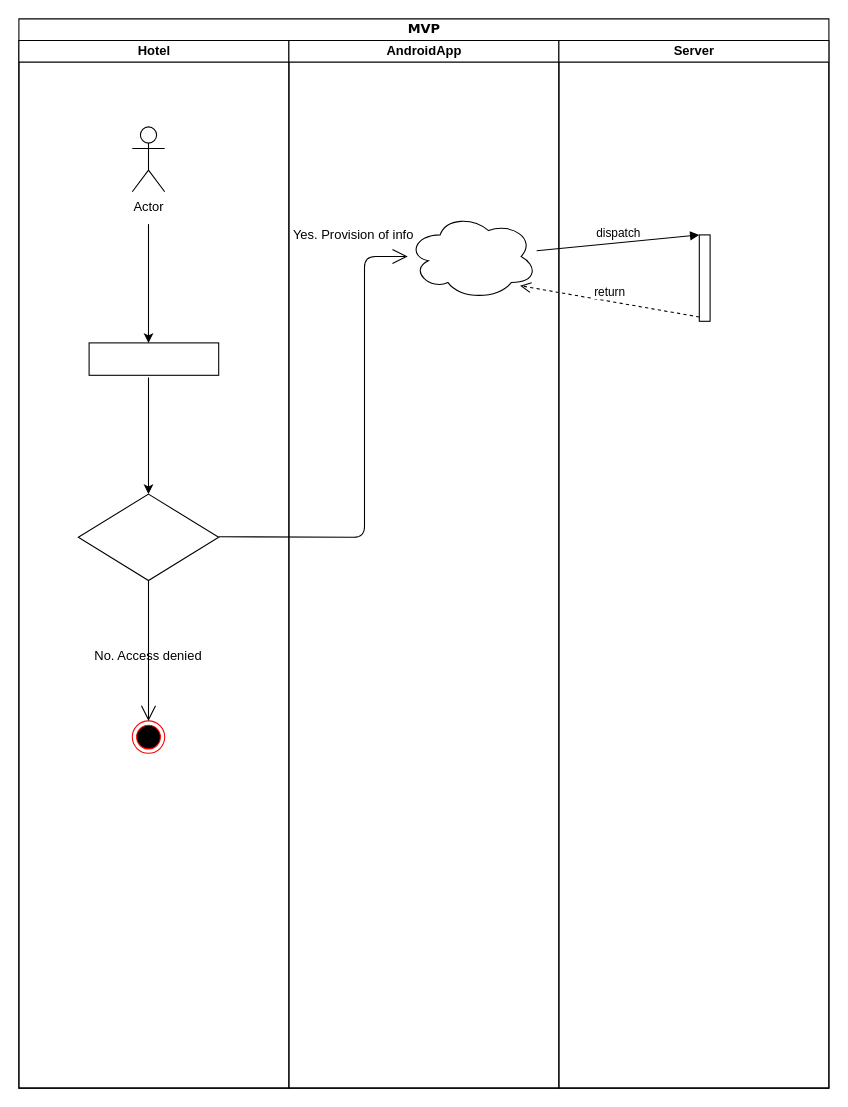
The diagram is 848 pixels wide and 1107 high, and some of its shapes have lost their labels. The box of each missing label's shape, as (x1, y1, x2, y2) in pixels:
Is the user in a DB?: (77, 493, 219, 580)
Scan QR-Code: (88, 342, 219, 375)
